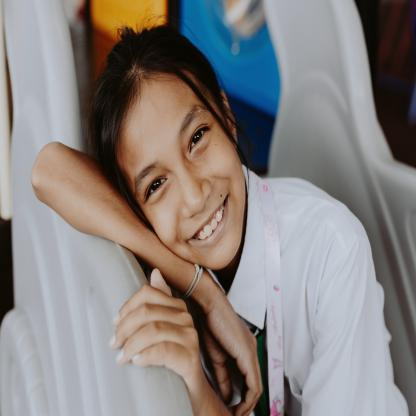Eye: (186, 121, 214, 156), (144, 174, 172, 204)
Mouth: (186, 194, 231, 250)
Nose: (174, 162, 212, 219)
